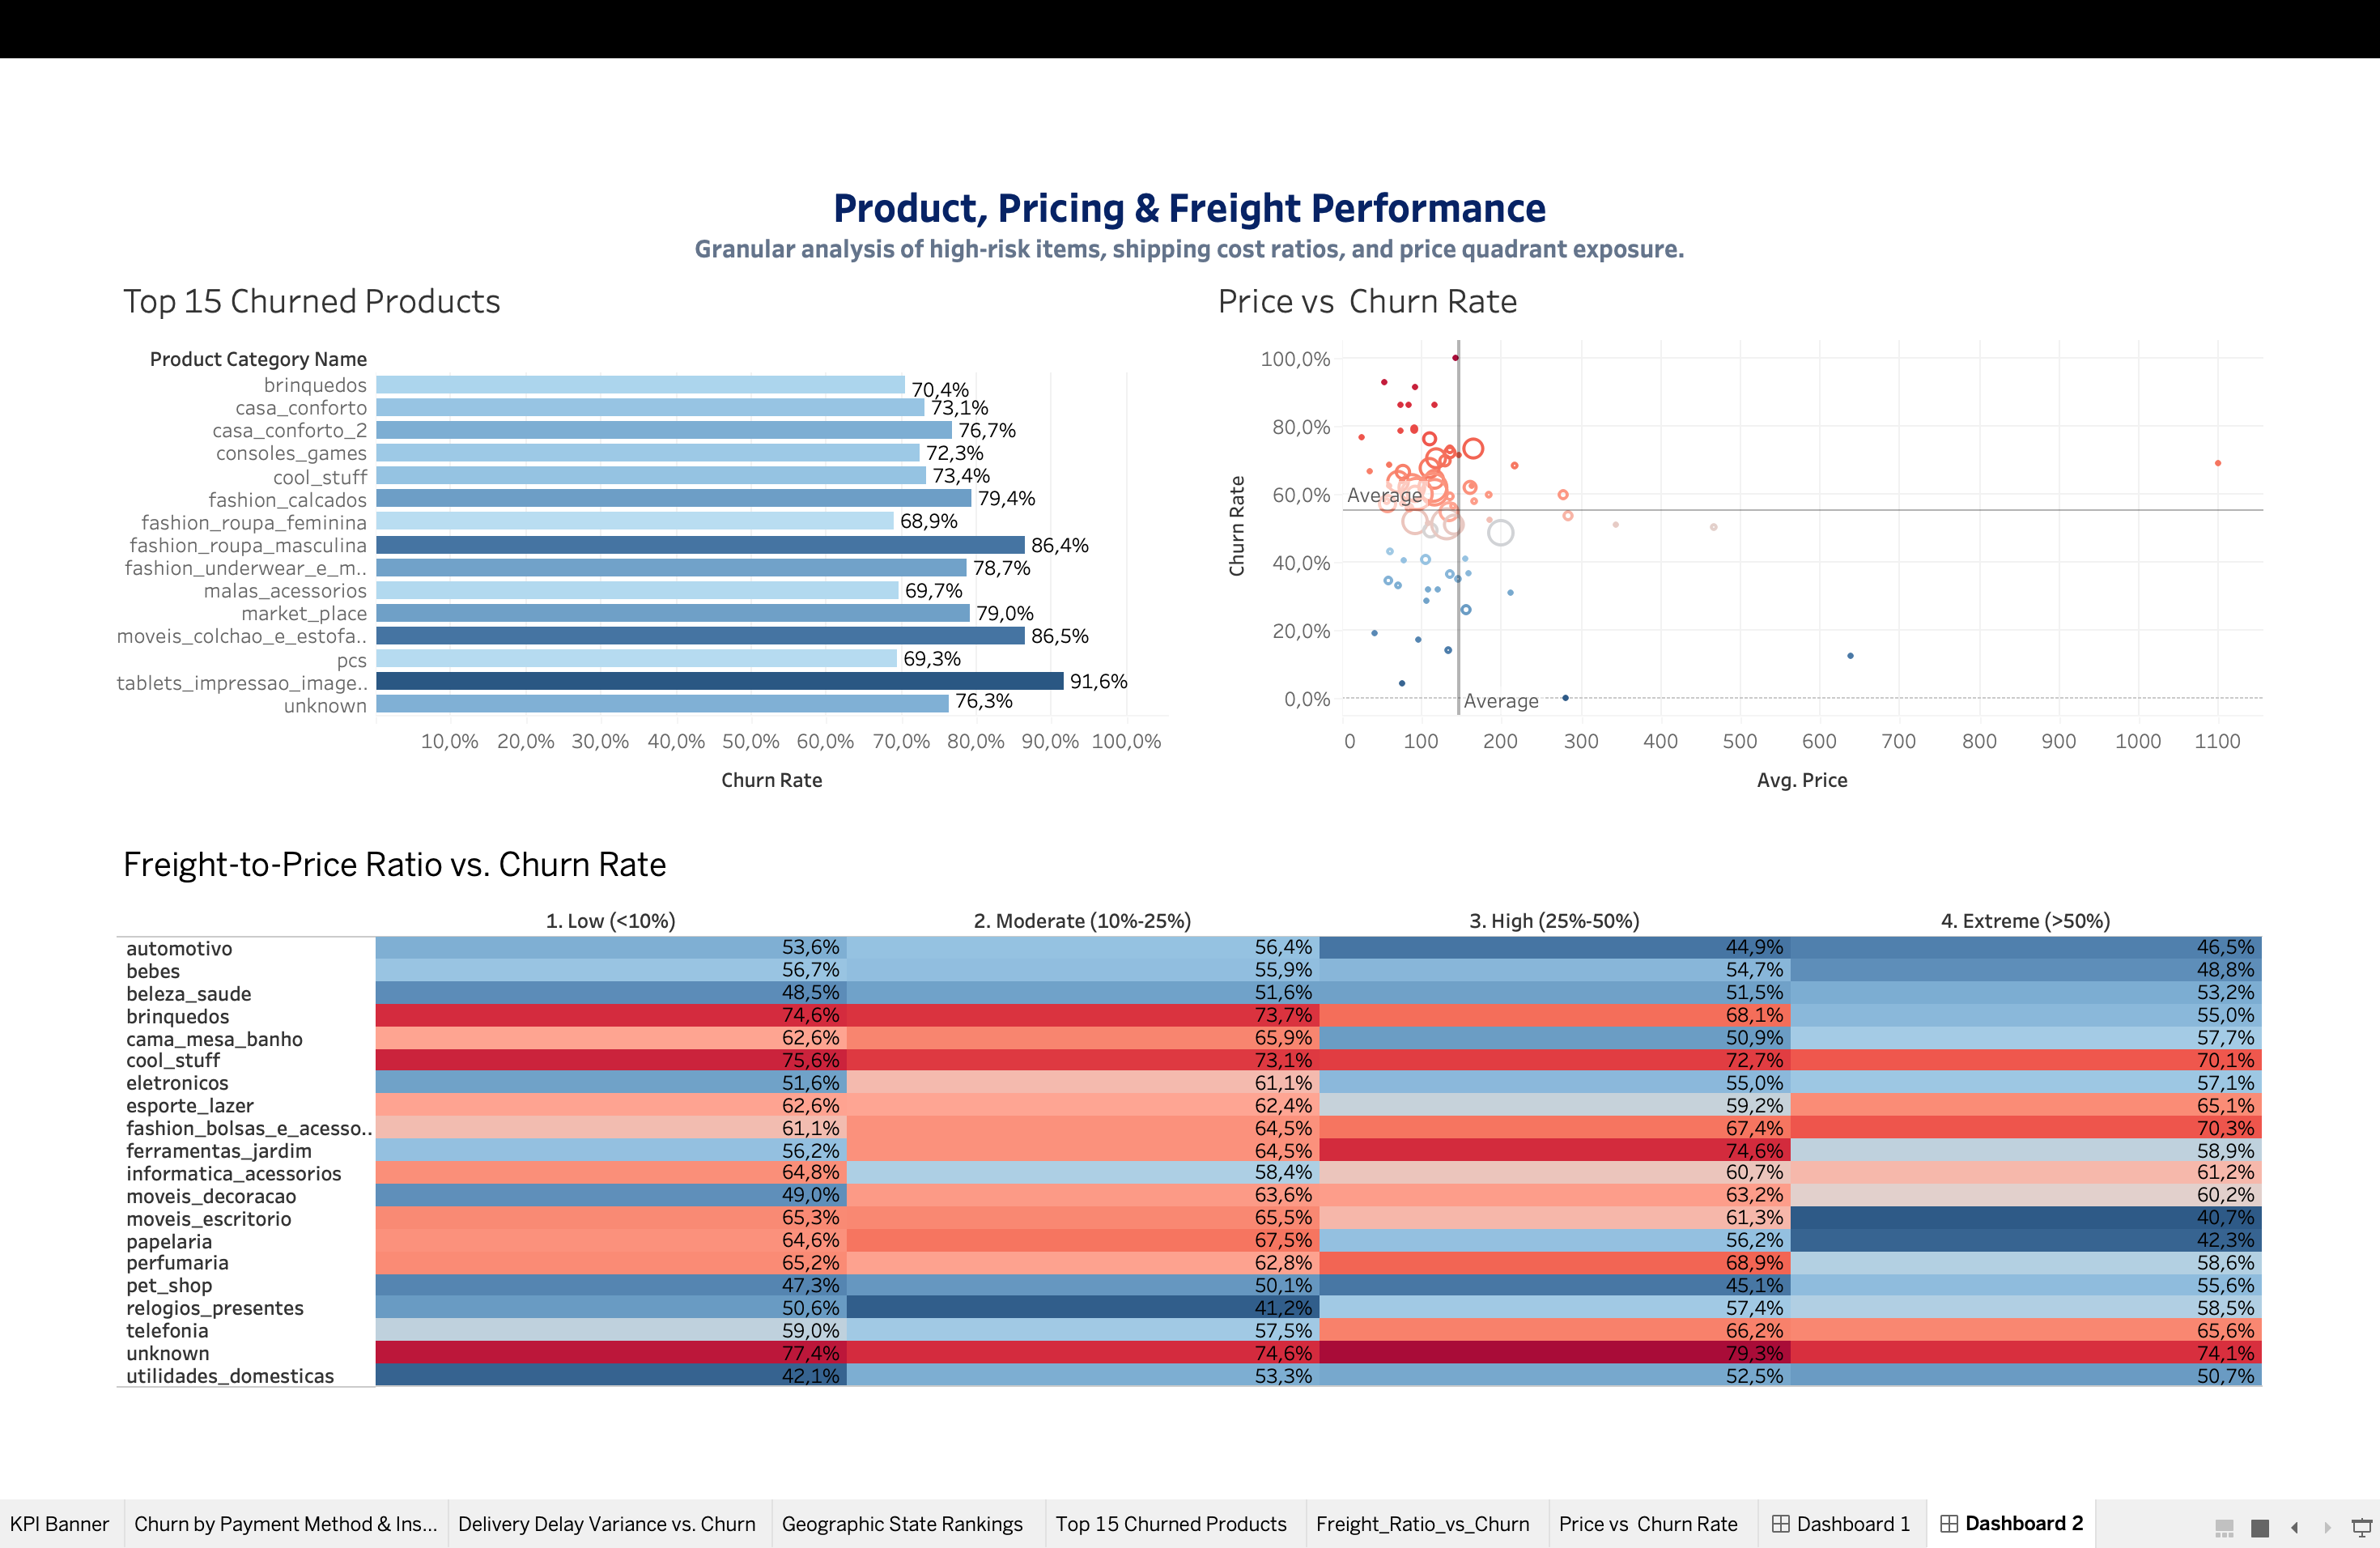

The page's visual inventory and layout, read from the dashboard file:
{"tool":"tableau","page":{"name":"Dashboard 2","canvas":[1366,768],"ordinal":1},"visuals":[{"type":"text","box":[20,10,1326,61]},{"type":"worksheet","title":"Top 15 Churned Products","mark":"Automatic","rows":["product_category_name"],"cols":["Calculation_0499496416960512"],"box":[20,70,650,330]},{"type":"worksheet","title":"Price vs  Churn Rate","mark":"Automatic","rows":["Calculation_0499496416960512"],"cols":["price"],"box":[696,70,650,330]},{"type":"worksheet","title":"Freight_Ratio_vs_Churn","mark":"Square","rows":["product_category_name"],"cols":["Calculation_0636385765662721"],"box":[20,420,1326,340]}]}

Visuals, with their boxes on the page's 1366x768 design canvas (x1, y1, x2, y2). These are canvas units, not pixel positions in the 2380x1548 screenshot, which may show the page scaled, cropped or inside an application window:
text: l=20, t=10, r=1346, b=71
"Top 15 Churned Products" worksheet: l=20, t=70, r=670, b=400
"Price vs  Churn Rate" worksheet: l=696, t=70, r=1346, b=400
"Freight_Ratio_vs_Churn" worksheet (Square marks): l=20, t=420, r=1346, b=760
